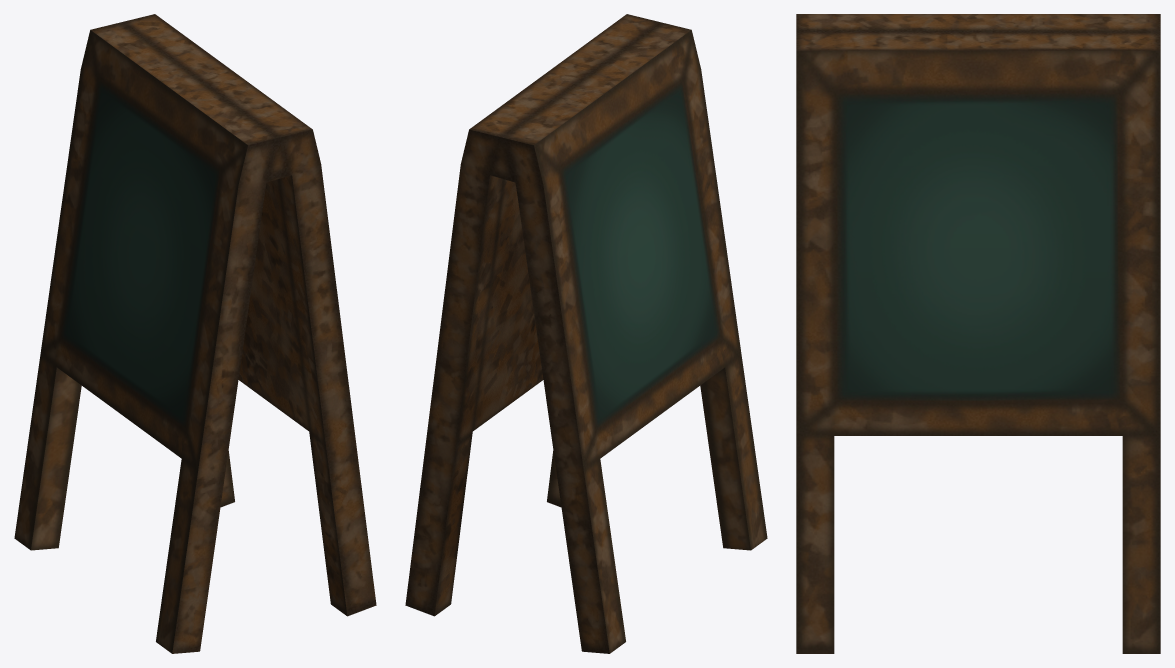
File: quadro_fbx.fbx
3 views of the same model, side by side, from view 1: azimuth 30°, elevation 25°; view 2: azimuth 150°, elevation 25°; view 3: azimuth 270°, elevation 25° (orthographic). The views are drawn at different scales.
Parts seen in each view (by area): view 1: Box001; view 2: Box001; view 3: Box001.
Boxes of the visible parts, <box> form: Box001: <box>14,14,376,653</box>; Box001: <box>405,14,767,653</box>; Box001: <box>796,14,1160,653</box>.
Size of the model in its own units: 62.74 by 145 by 83.95.
1 material, 1 textured.
